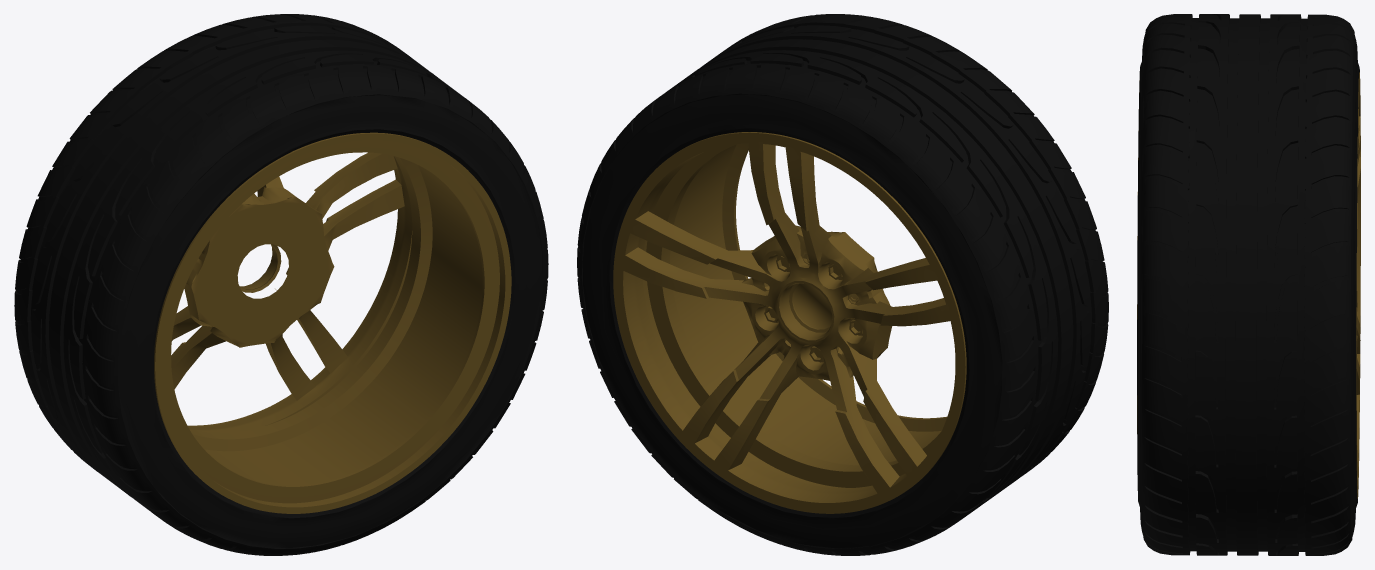
The model's file is s15_wheel_l.glb.
The picture shows the model from 3 angles, left to right: view 1: azimuth 30°, elevation 25°; view 2: azimuth 150°, elevation 25°; view 3: azimuth 270°, elevation 25°; orthographic projection. The views are drawn at different scales.
Visible parts, largest first — view 1: wheels.001; view 2: wheels.001; view 3: wheels.001.
Part boxes in pixels (bbox=[...]): wheels.001: bbox=[14, 14, 548, 555]; wheels.001: bbox=[577, 14, 1108, 555]; wheels.001: bbox=[1137, 14, 1360, 555].
Size of the model in its own units: 1.2 by 1.19 by 0.4937.
